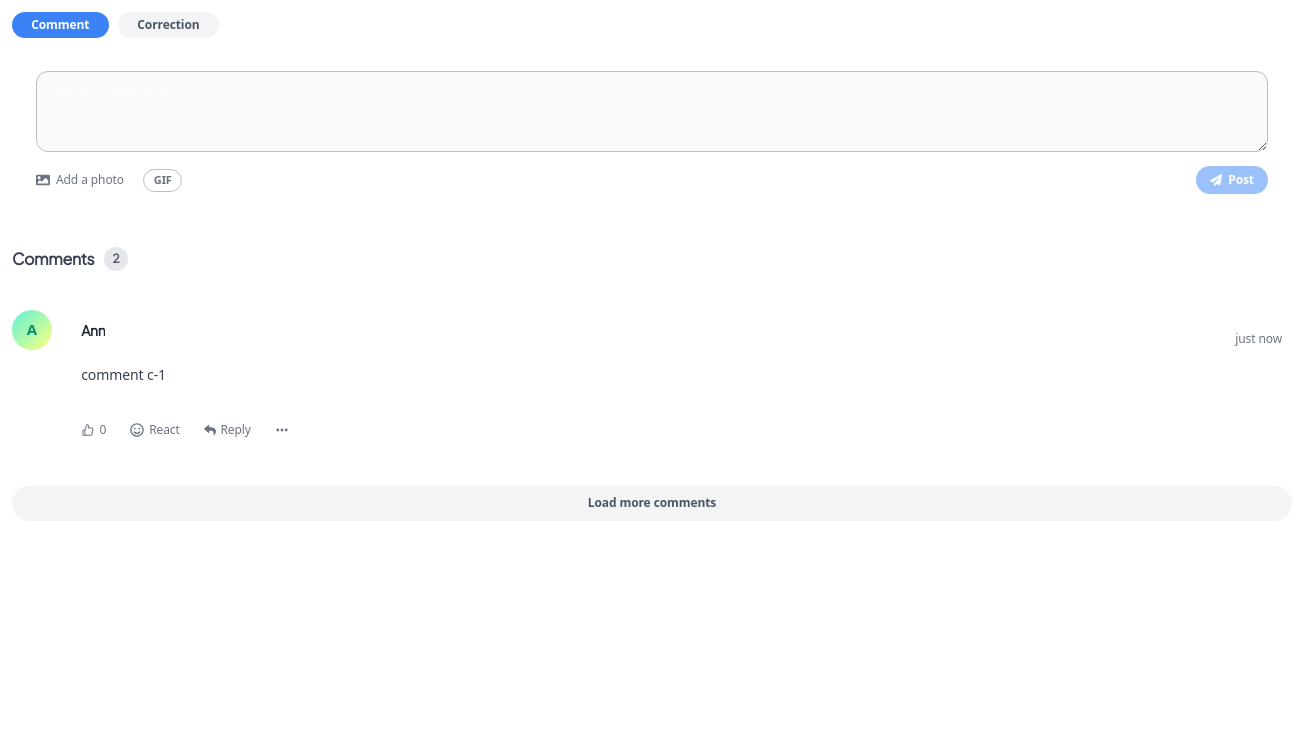
Test: CommentList › loads the next page of comments and keeps the first
expect the text "Ben" is not shown: met
Click the button with test id "comments-load-more": coordinates (652, 503) [12,486,1292,521]
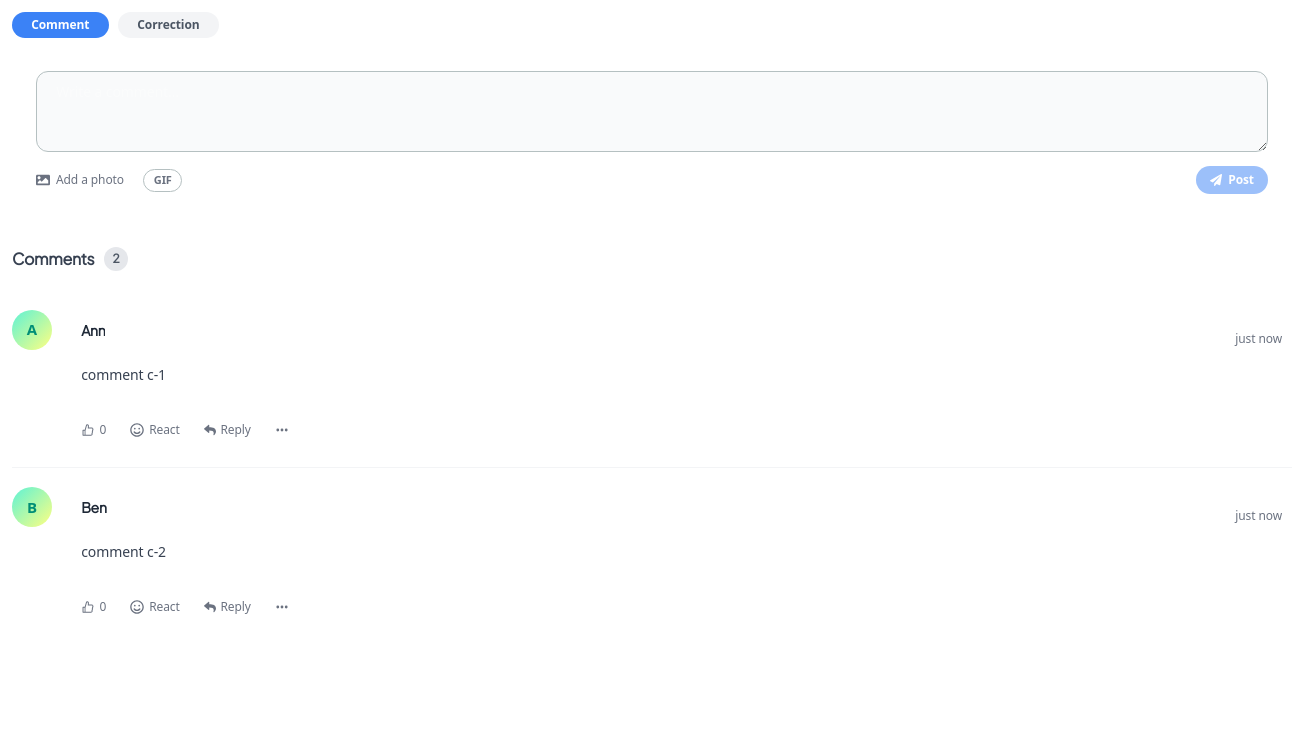
expect the heading "Ann" is shown: met, box [81,320,106,340]
expect the heading "Ben" is shown: met, box [81,497,107,517]
expect the button with test id "comments-load-more" is gone: met
